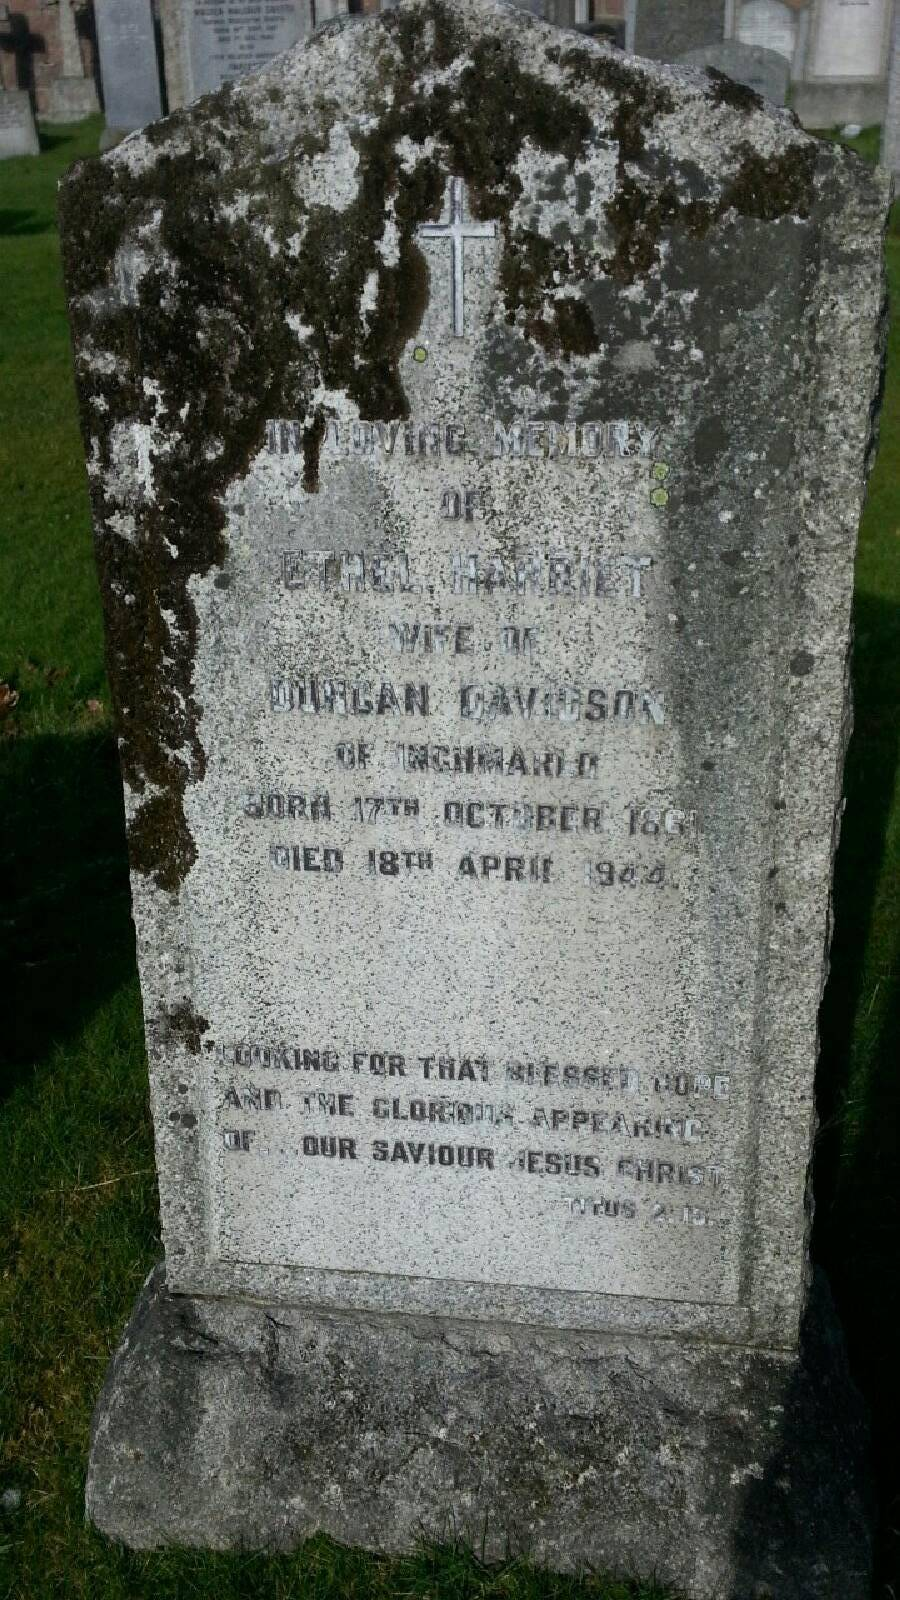upright: (46, 0, 900, 1600)
